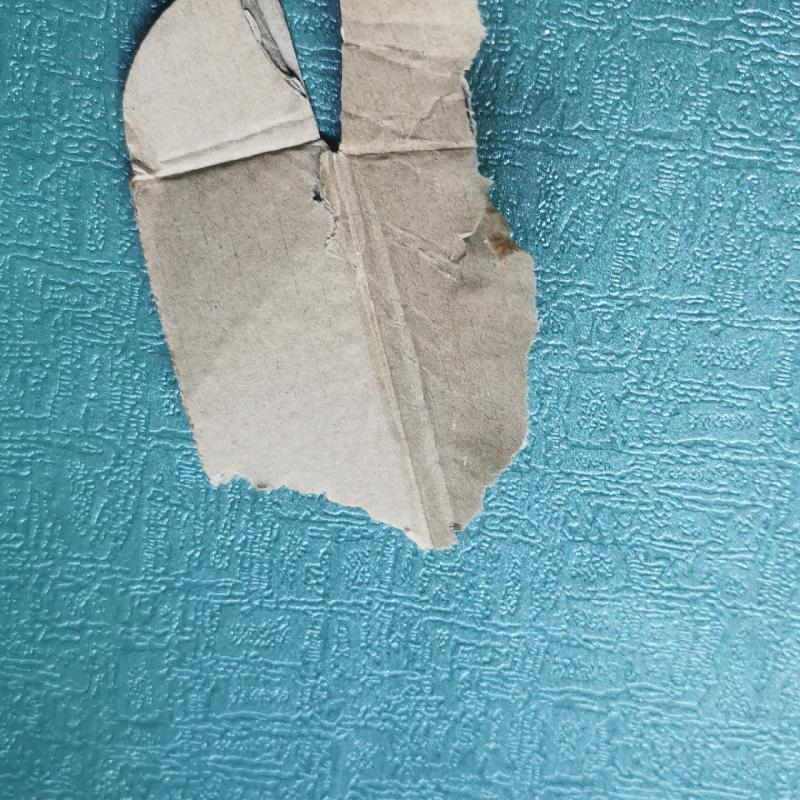boxes: (117, 2, 547, 556)
